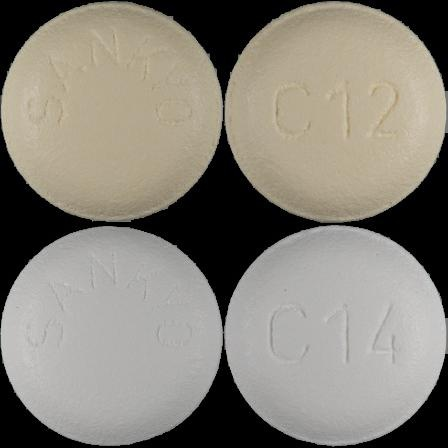65597-101: (0, 0, 224, 224)
